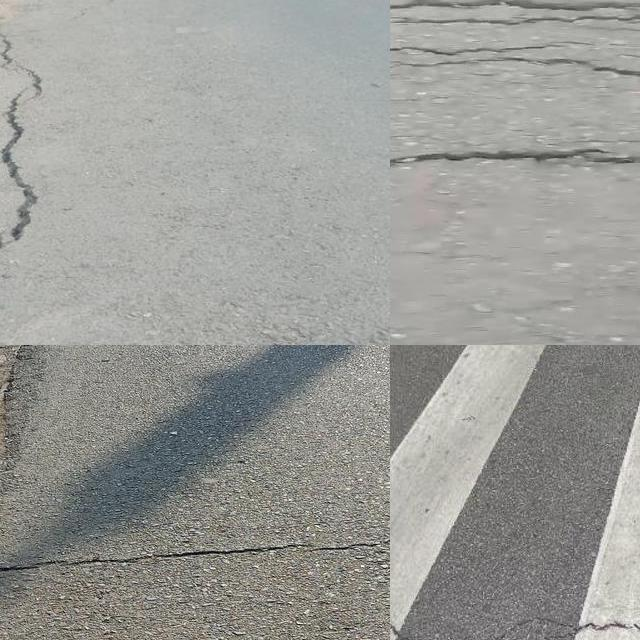Melintang: (0, 525, 390, 593), (390, 39, 640, 86), (390, 144, 640, 182), (390, 0, 640, 26)
Memanjang: (0, 34, 55, 279)
